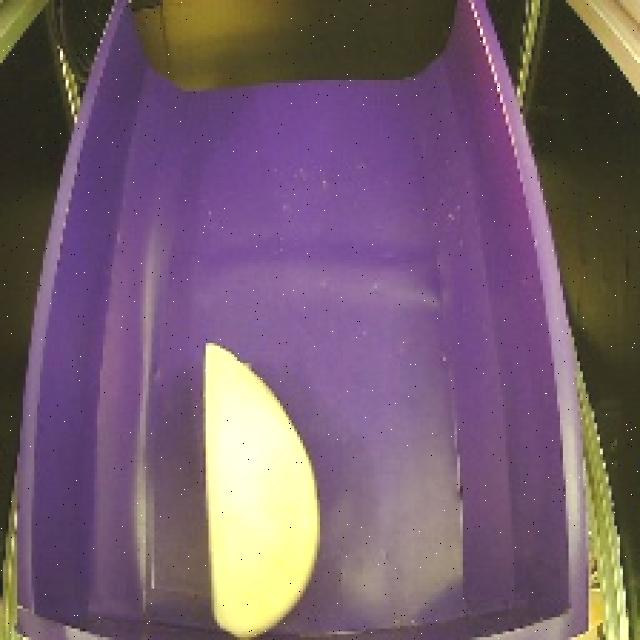white_radish: (165, 318, 334, 640)
